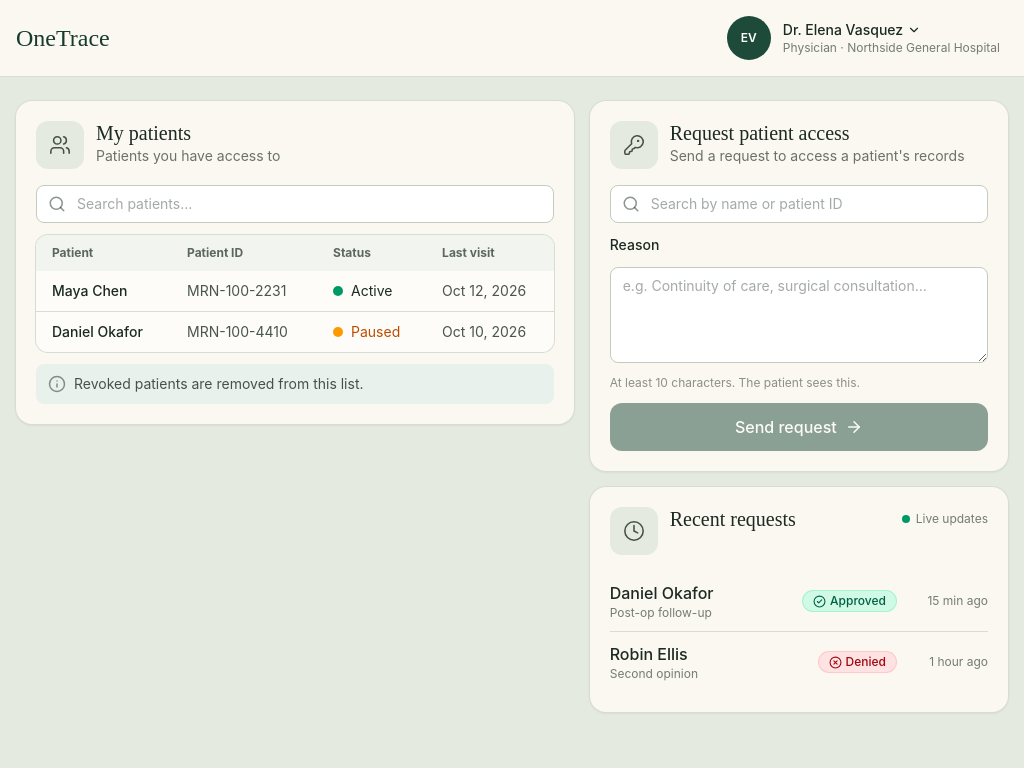
Hospital workspace: my patients & requests (mockup page 3, screen 2) › a patient the hospital already holds a key for says so instead of No active grant
Expected: the heading "Request patient access" is shown, [670,122,850,144]
In the search field with placeholder "Search by name or patient ID": [799, 204] box [610,185,988,223], type "Maya"
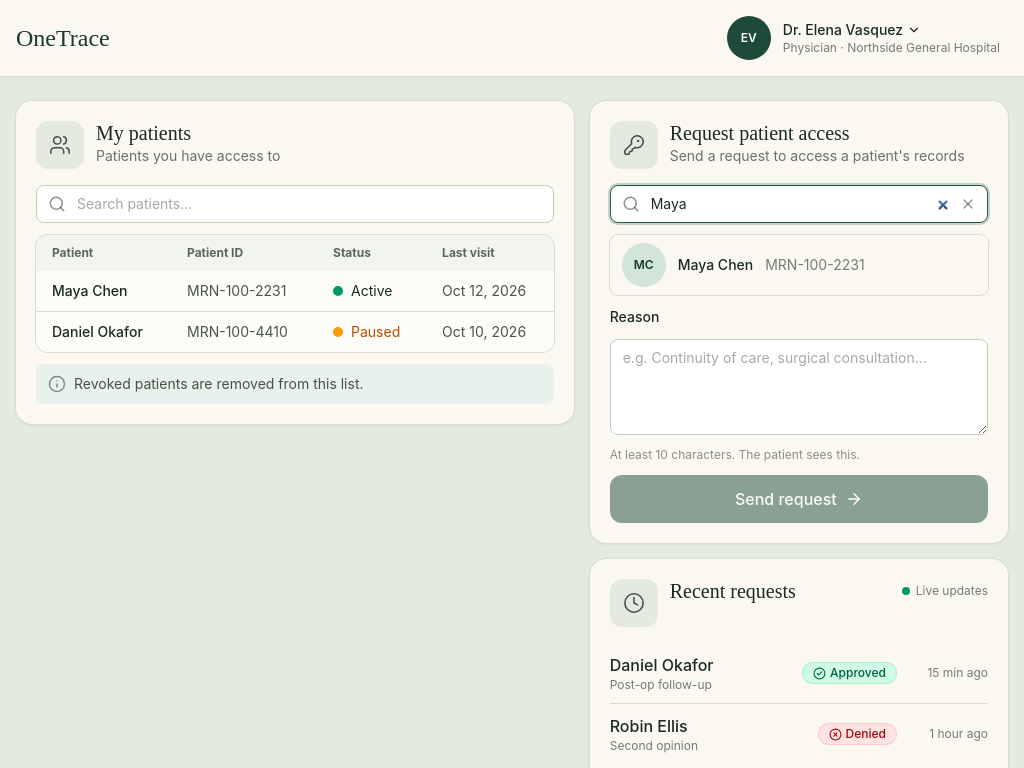
Click the button "MC Maya Chen MRN-100-2231": [799, 265] box [610,235,988,295]
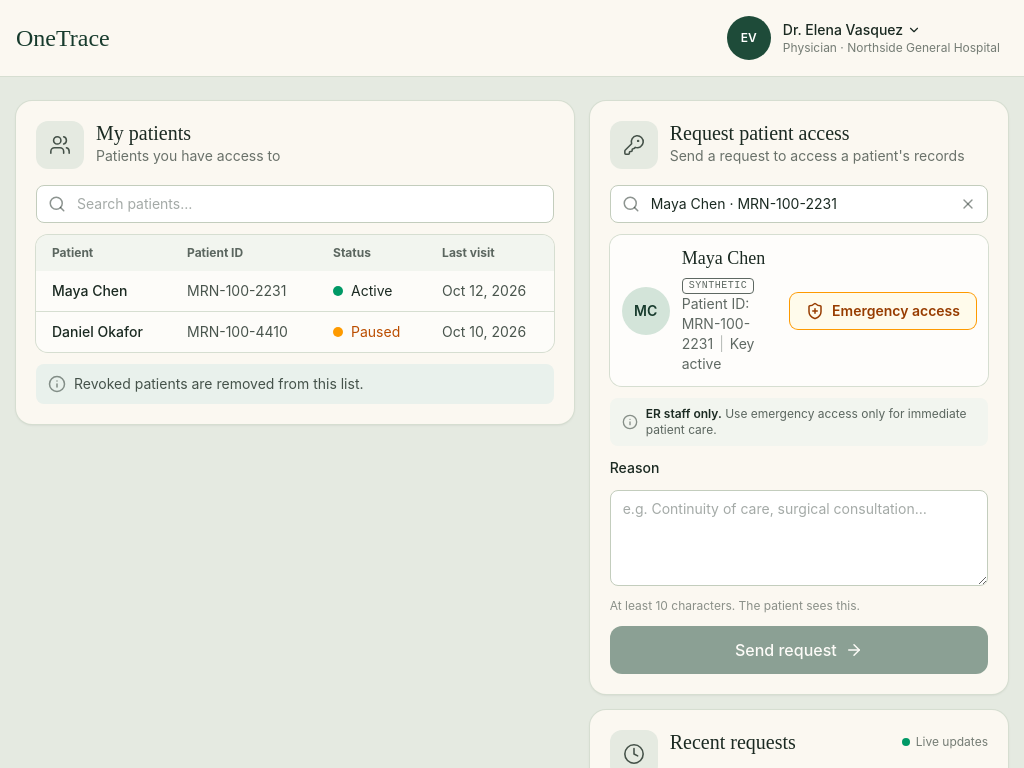
Result: the text "Patient ID: MRN-100-2231|Key active" is shown at [682,295,754,372]
